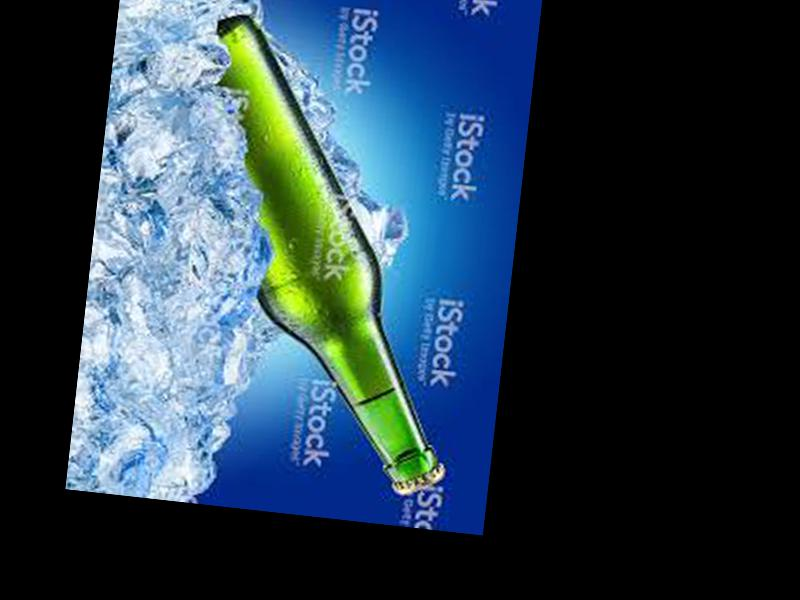Beer: (167, 10, 494, 504)
